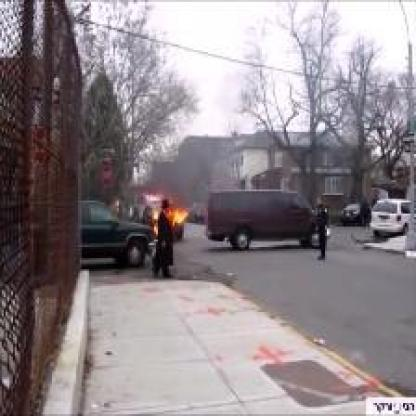fire: (146, 198, 189, 241)
smoke: (138, 106, 233, 194)
